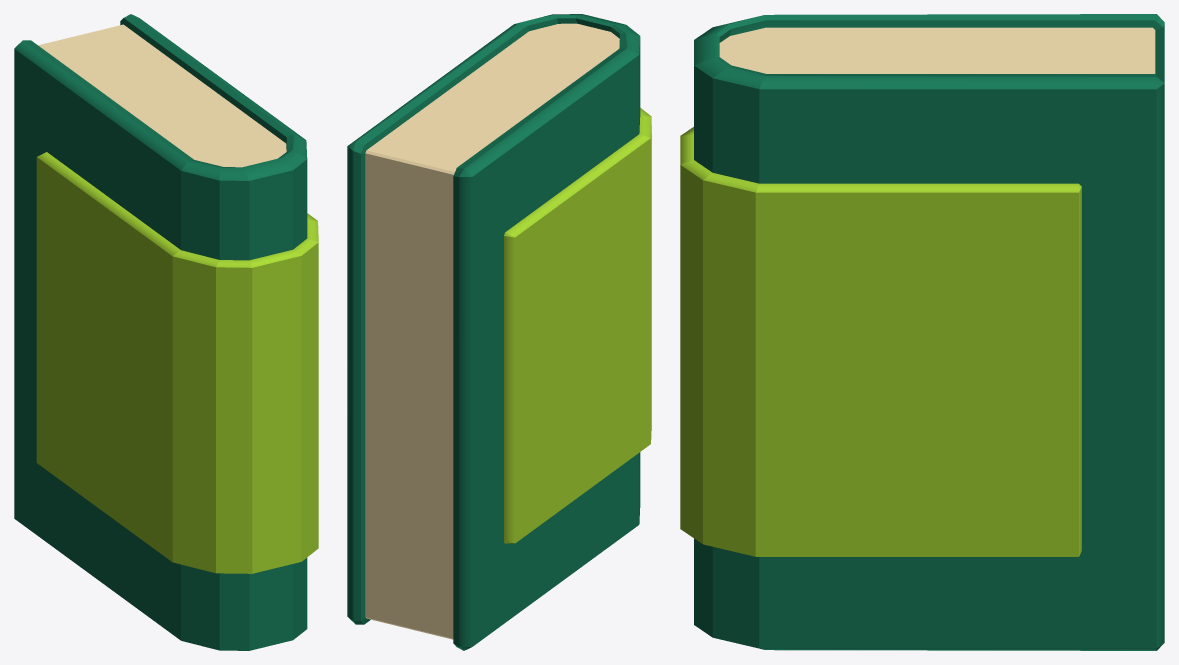
File: book4.fbx
3 renders of one model, left to right at view 1: azimuth 30°, elevation 25°; view 2: azimuth 150°, elevation 25°; view 3: azimuth 270°, elevation 25°, orthographic. The views are drawn at different scales.
Parts seen in each view (by area): view 1: book4; view 2: book4; view 3: book4.
Part boxes in pixels (box(x1,y1,x2,y2)): book4: box(14, 14, 318, 650); book4: box(347, 14, 651, 650); book4: box(680, 14, 1164, 650).
Size of the model in its own units: 0.5083 by 1.61 by 1.23.
